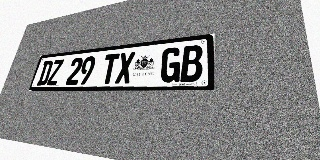2: (65, 57, 84, 85)
9: (77, 56, 97, 85)
B: (180, 44, 203, 82)
D: (36, 60, 54, 86)
G: (159, 47, 182, 83)
T: (100, 53, 120, 84)
X: (115, 52, 135, 84)
Z: (46, 59, 64, 85)
